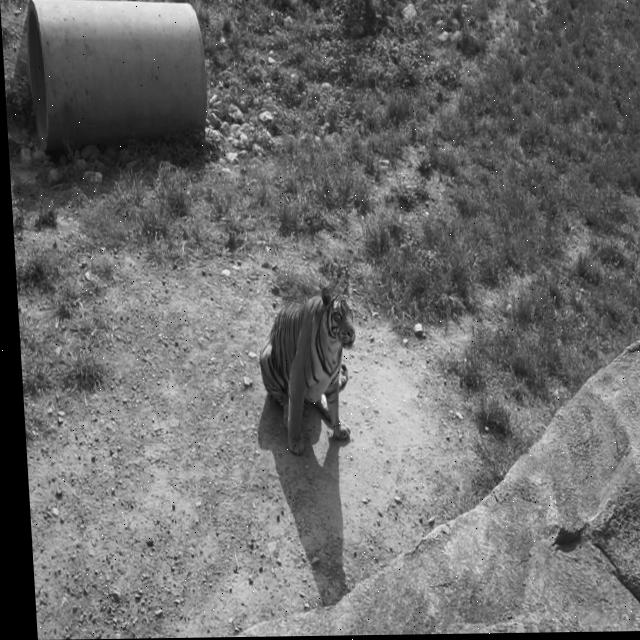Tiger: (254, 286, 363, 456)
